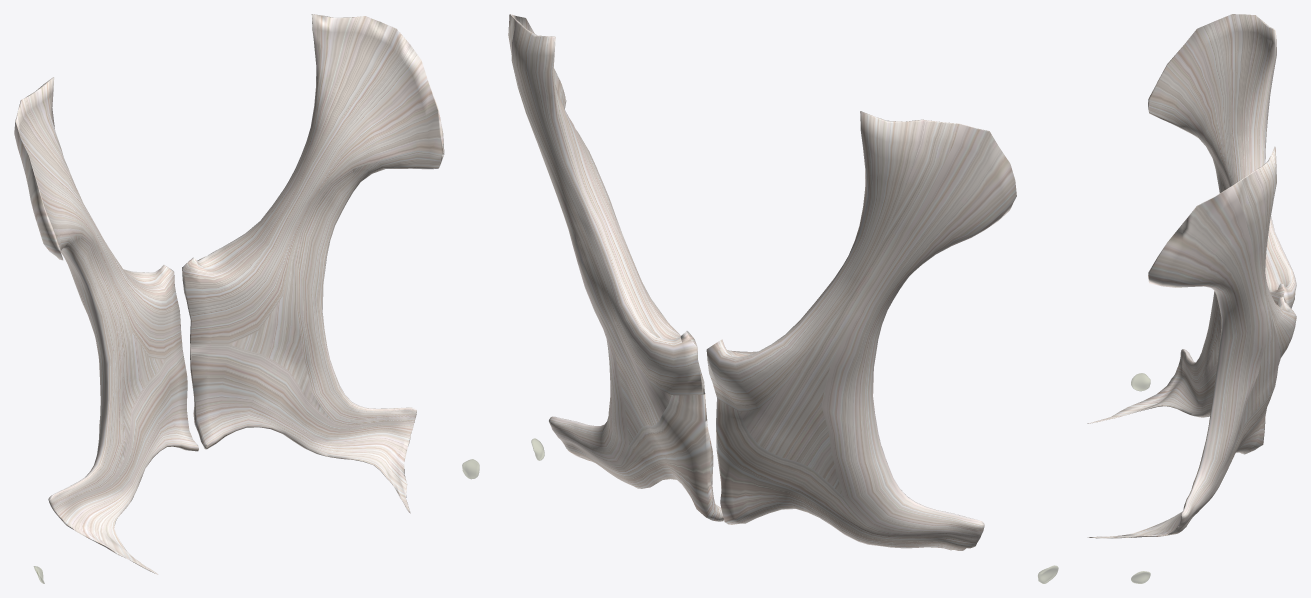
File: pelvic_attach_s124_female.glb
The picture shows the model from 3 angles, left to right: view 1: azimuth 30°, elevation 25°; view 2: azimuth 150°, elevation 25°; view 3: azimuth 270°, elevation 25°; orthographic projection. The views are drawn at different scales.
Visible parts, largest first — view 1: Sacrotuberal ligament.l, Sacrotuberal ligament.r; view 2: Sacrotuberal ligament.r, Sacrotuberal ligament.l; view 3: Sacrotuberal ligament.l, Sacrotuberal ligament.r, Superior bursa of biceps femoris.r.
Boxes of the visible parts, box(x1,y1,x2,y2) form: Sacrotuberal ligament.l: box(182, 14, 444, 513); Sacrotuberal ligament.r: box(14, 77, 198, 574); Sacrotuberal ligament.r: box(706, 111, 1016, 550); Sacrotuberal ligament.l: box(508, 14, 723, 521); Sacrotuberal ligament.l: box(1087, 146, 1296, 538); Sacrotuberal ligament.r: box(1087, 14, 1296, 423); Superior bursa of biceps femoris.r: box(1131, 373, 1150, 391).
Bounding box in the file's own units: 0.1491 × 0.139 × 0.0661.
Materials: 2 (1 with a texture image).
